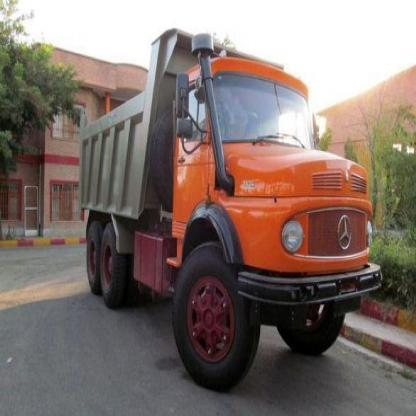Truck: (77, 17, 383, 387)
